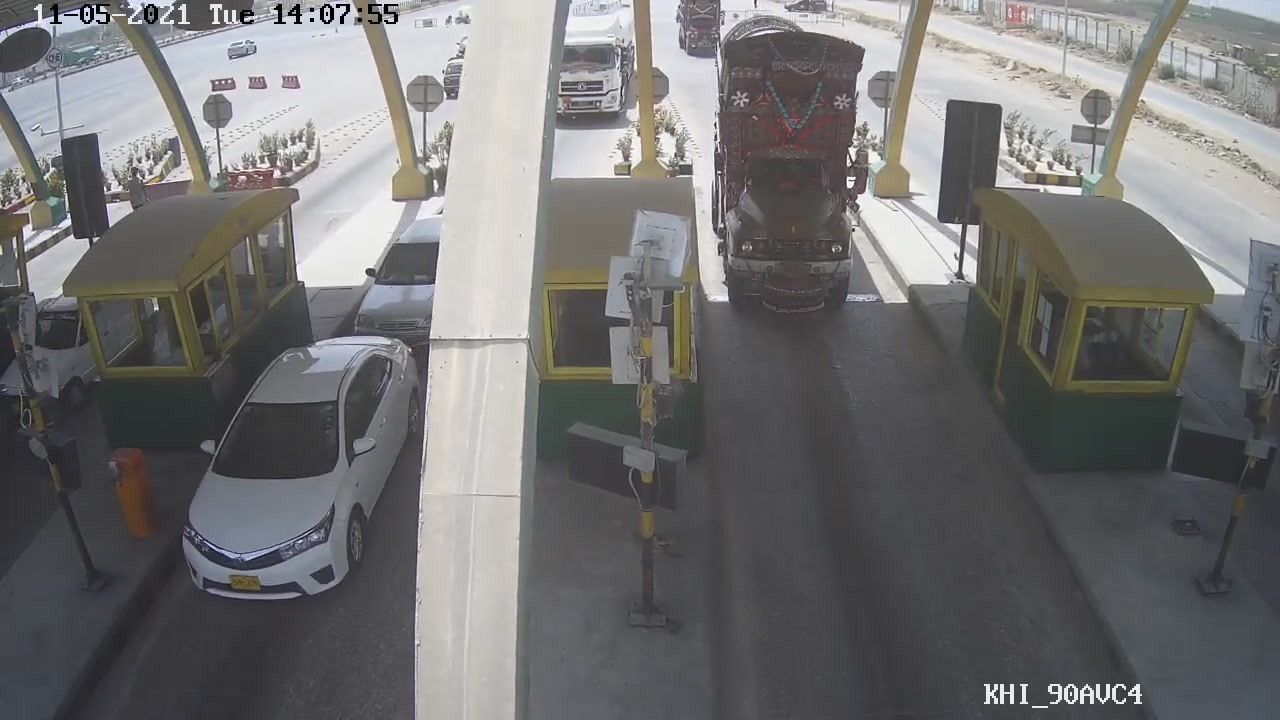F5: (707, 19, 873, 318)
